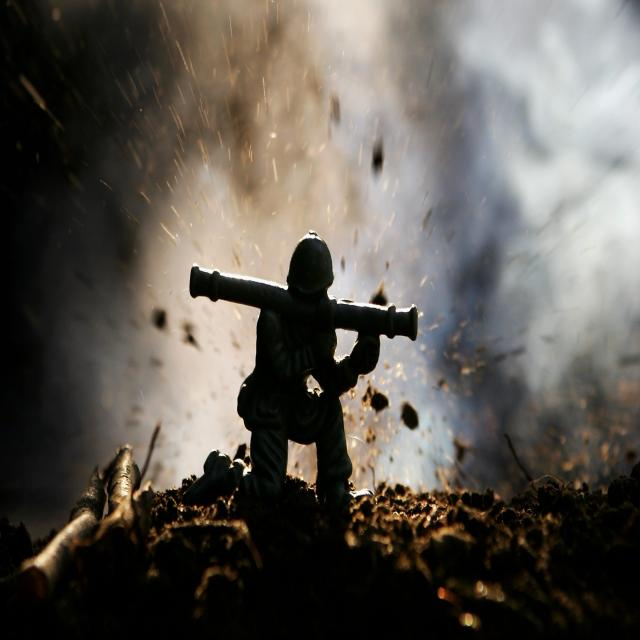bazooka: (178, 229, 443, 371)
